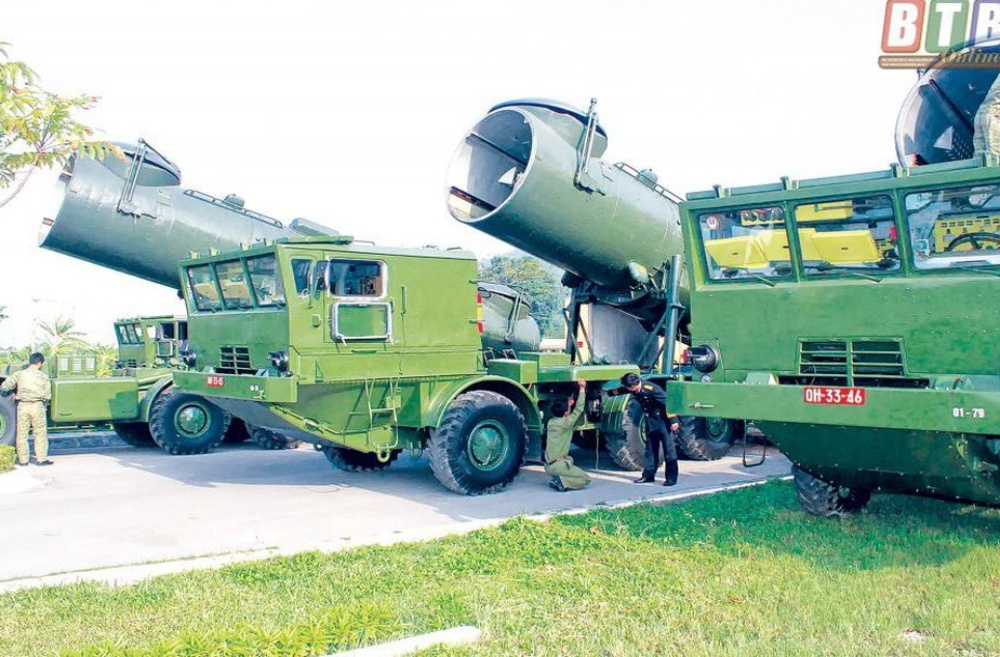plate: (801, 382, 876, 410), (198, 372, 229, 391)
